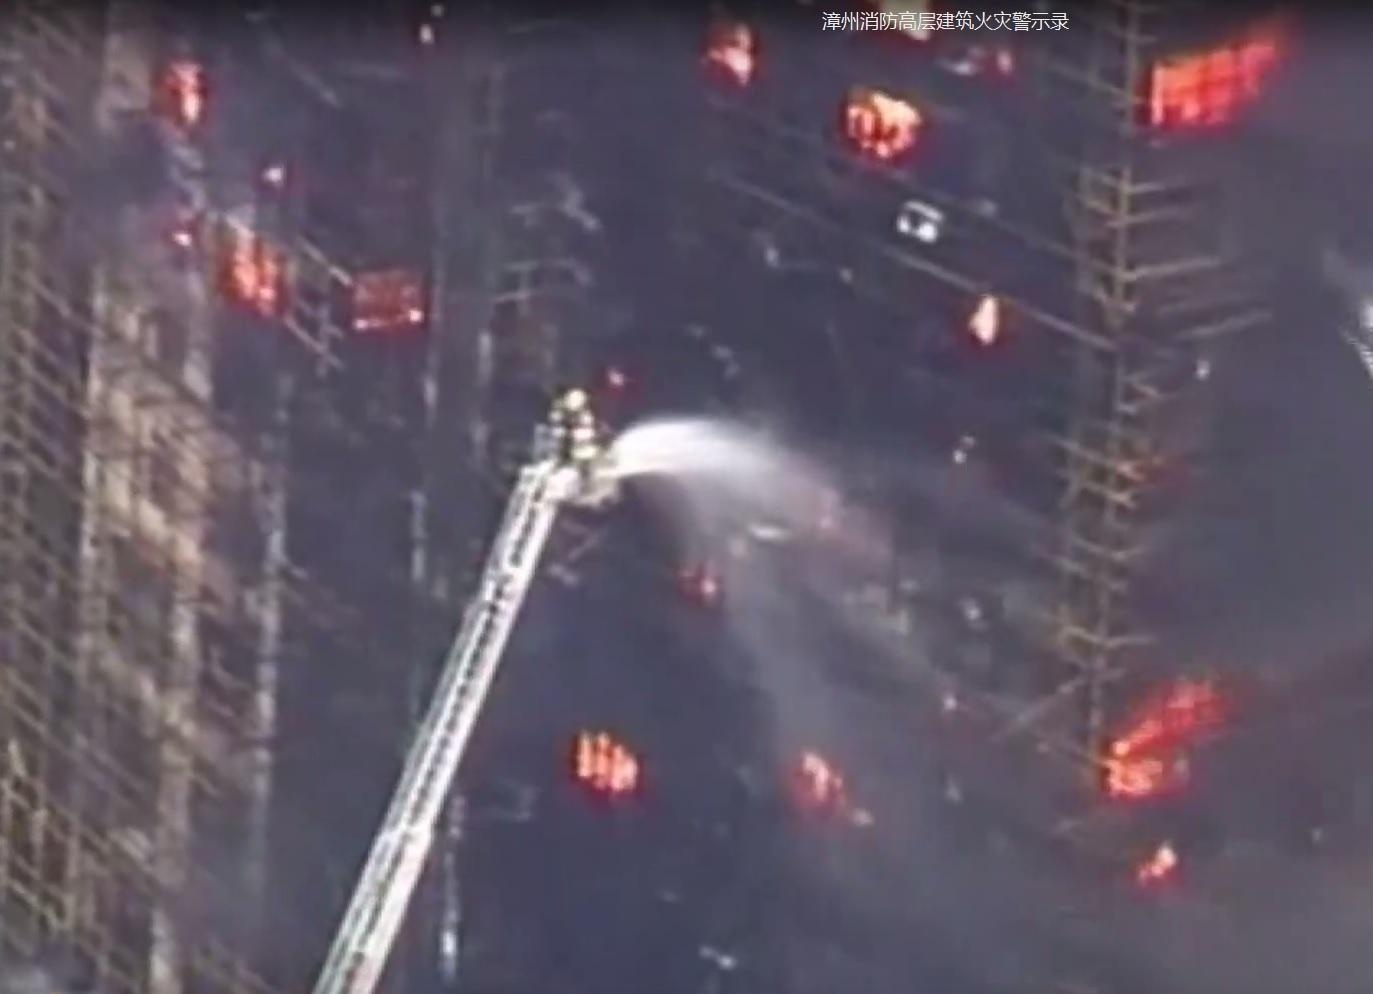fire: (1101, 678, 1221, 793), (1146, 32, 1281, 122), (844, 82, 919, 156), (571, 726, 644, 792), (792, 750, 857, 813), (159, 57, 208, 121), (709, 27, 758, 77), (1134, 838, 1177, 879)
